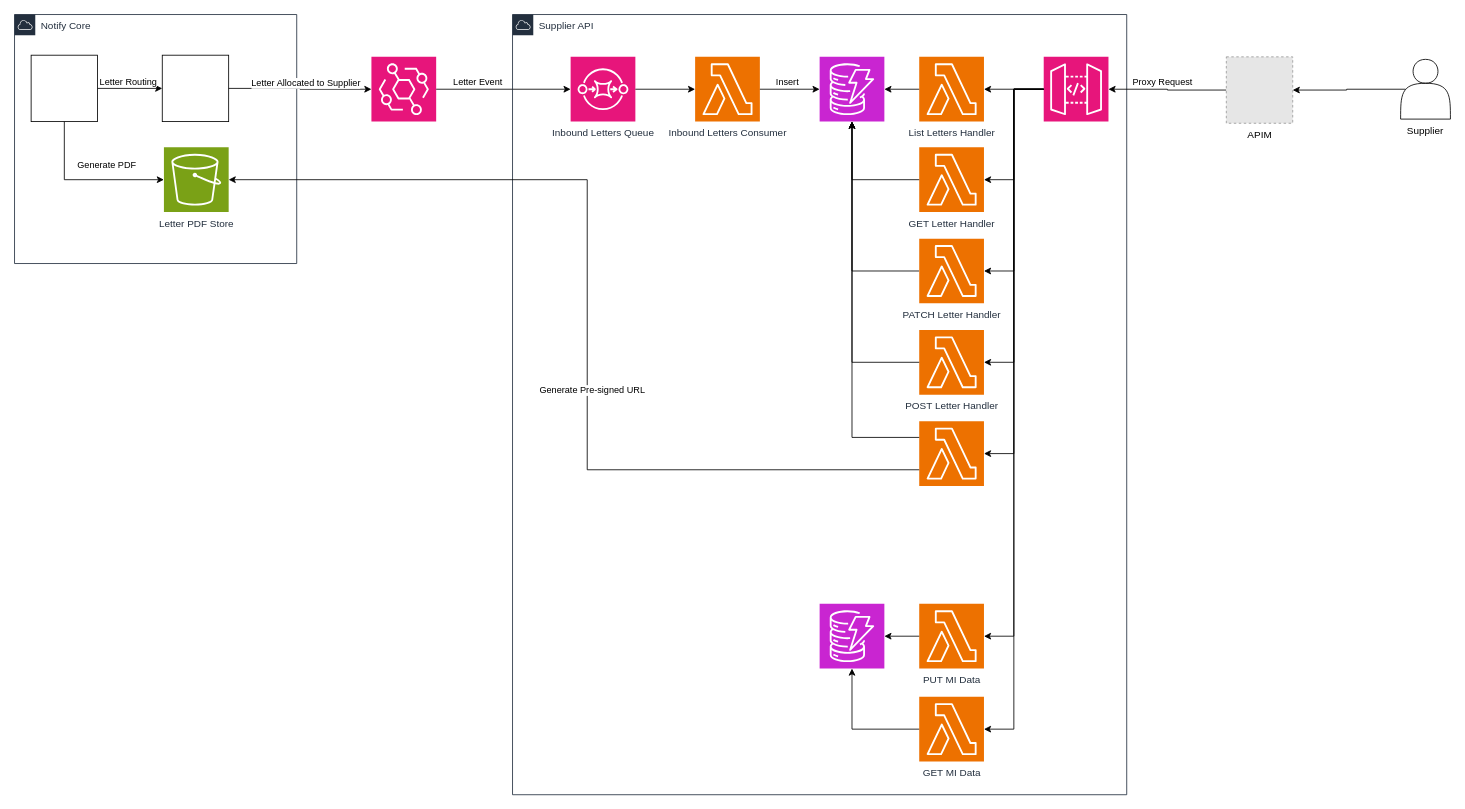
Some shapes in this 1465 by 809 pixel diagram are drawn without their labels. Grey dashed boxes stand in for pictures. The centre of each missing label's shape, as x and y in pixels:
"Event Bus" goes at point (403, 89).
"GET letter data" goes at point (951, 453).
"Letter Distribution" goes at point (195, 88).
"Letter Generation" goes at point (64, 88).
"Letters Table" goes at point (851, 89).
"MI Table" goes at point (851, 636).
"Supplier API GW" goes at point (1075, 89).
